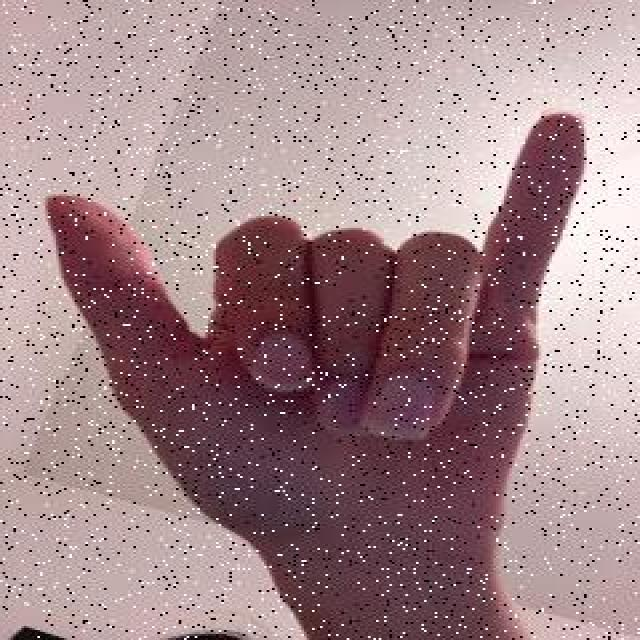Y: (42, 102, 594, 558)
